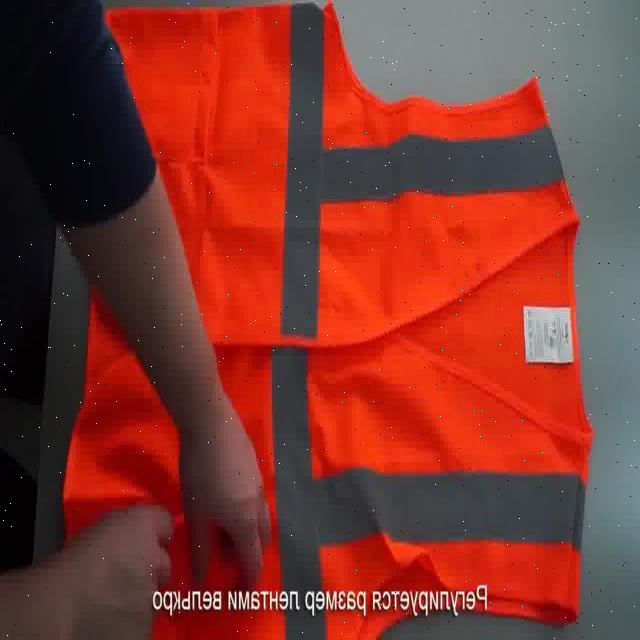Vest: (81, 7, 586, 632)
